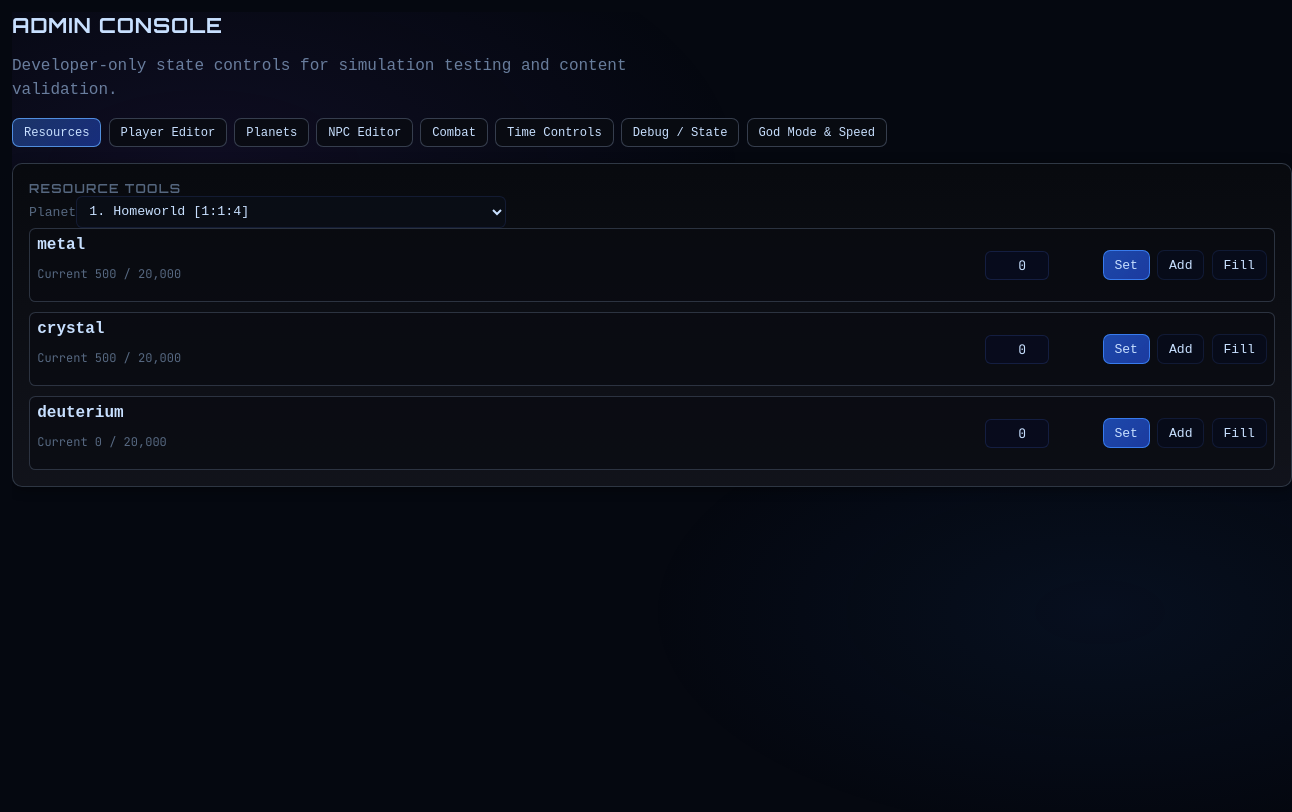
AdminPanel › resource set/add mutates state
Expected: the text "metal" is shown, [37, 236, 85, 254]
Replace the text in the number field in the row of "metal" with "1200" at (1017,265), box [985, 251, 1049, 280]
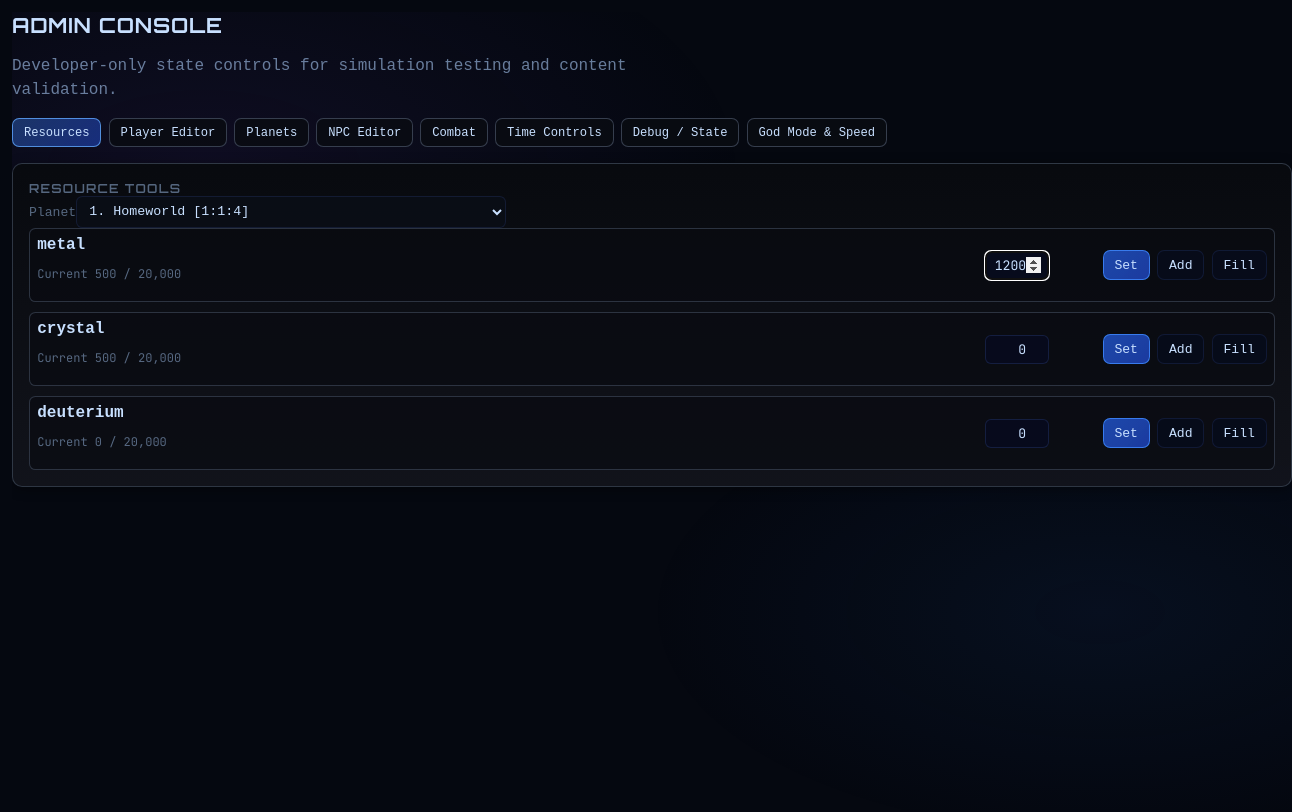
Click the button "Set" in the row of "metal" at (1126,265), box [1102, 250, 1150, 280]
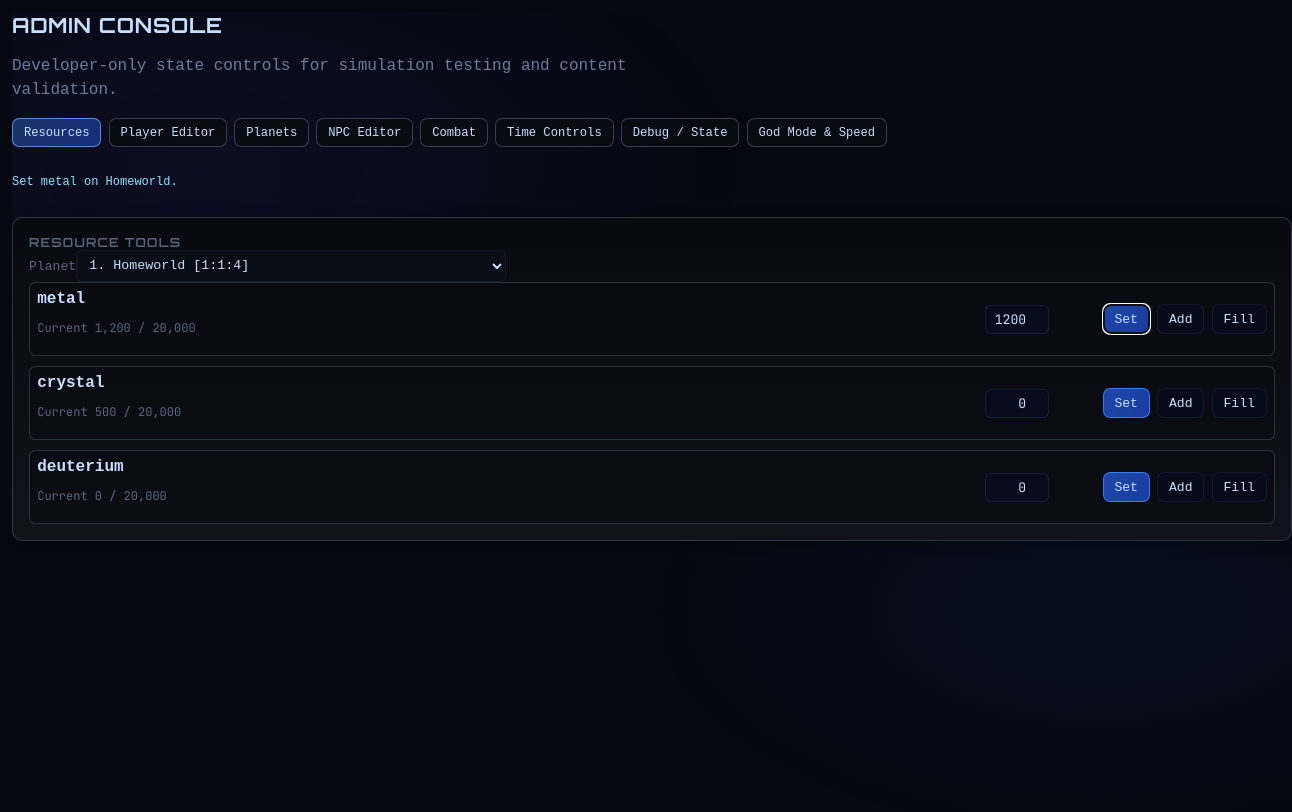
Result: the text "Current 1,200 / 20,000" is shown at [37, 320, 196, 336]
Replace the text in the number field in the row of "1,200" with "300" at (1017,319), box [985, 305, 1049, 334]
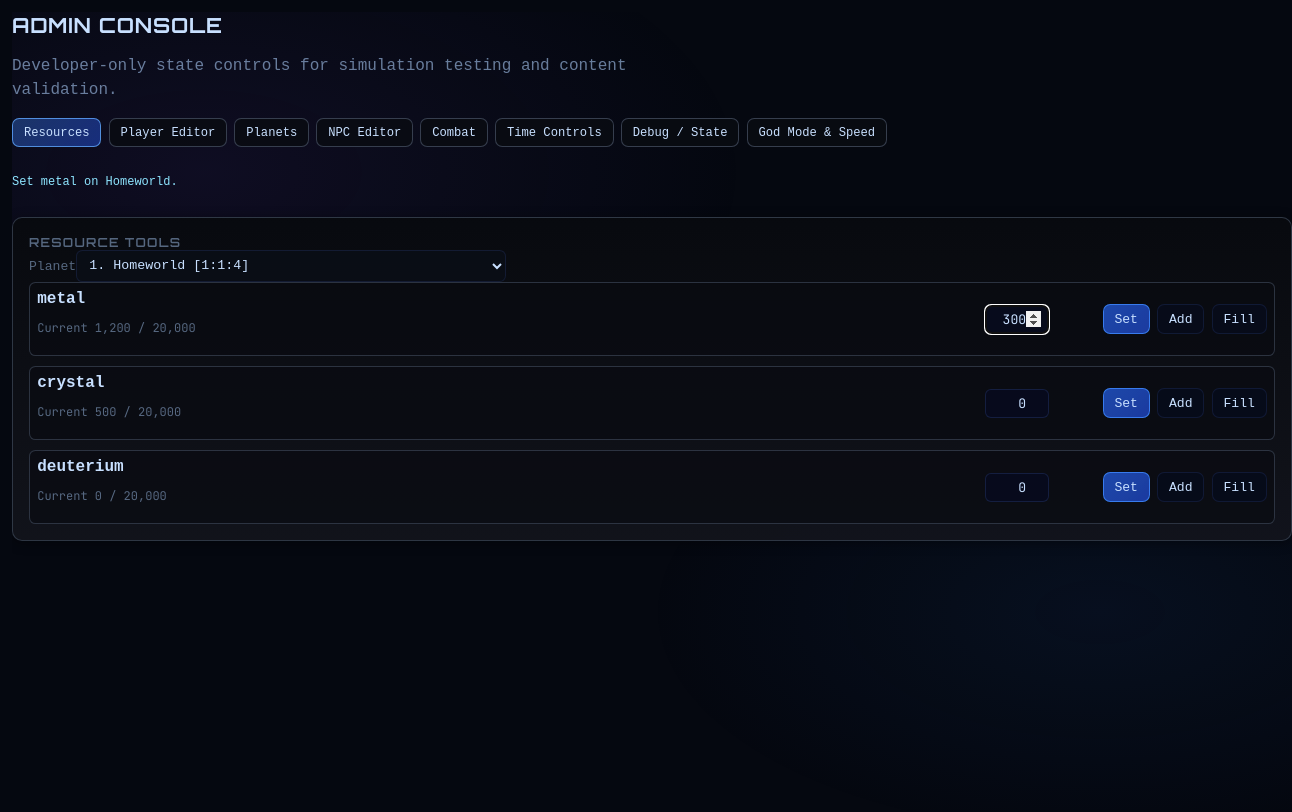
Click the button "Add" in the row of "1,200" at (1181,319), box [1157, 304, 1204, 334]
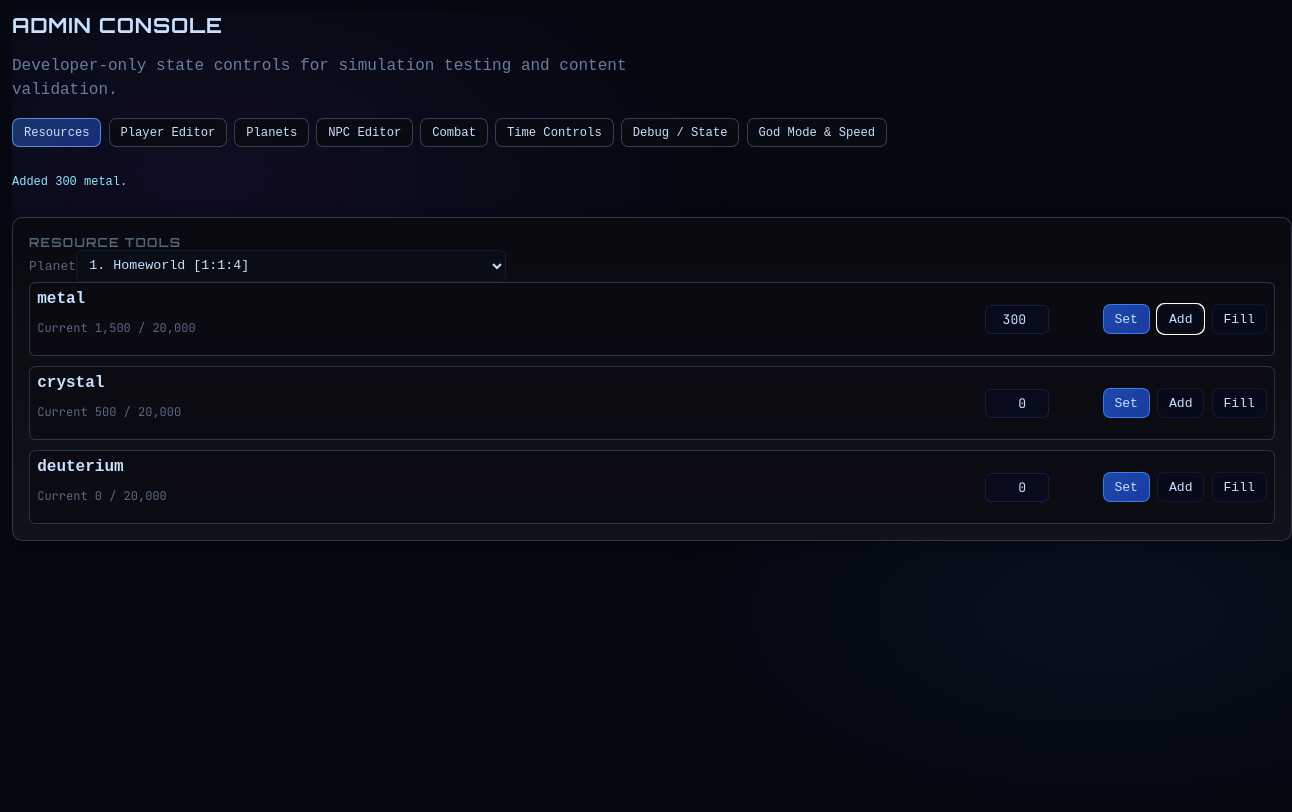
Result: the text "Current 1,500 / 20,000" is shown at [37, 320, 196, 336]
